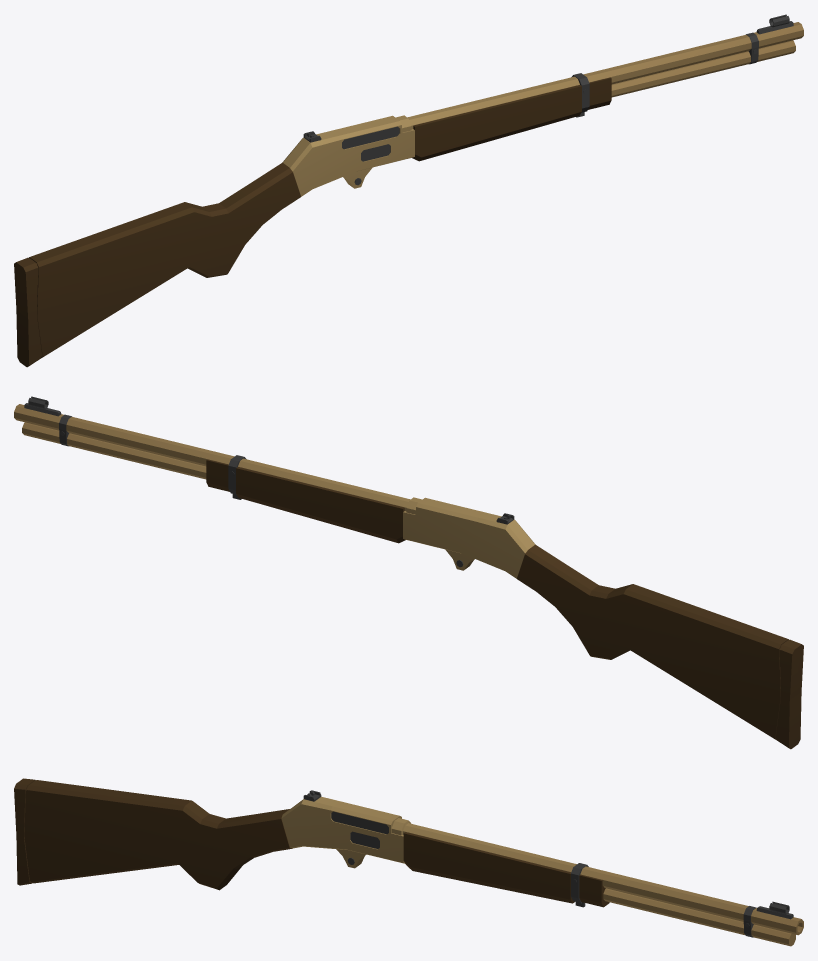
Rendered from SniperRifle5_06.fbx.
3 renders of one model, top to bottom at view 1: azimuth 30°, elevation 25°; view 2: azimuth 150°, elevation 25°; view 3: azimuth 330°, elevation 25°, orthographic.
Visible parts, largest first — view 1: SniperRifle5_06; view 2: SniperRifle5_06; view 3: SniperRifle5_06.
Part boxes in pixels (x1,y1,x2,y2): SniperRifle5_06: (14, 14, 803, 367); SniperRifle5_06: (14, 396, 803, 749); SniperRifle5_06: (14, 778, 803, 946).
Size of the model in its own units: 1.15 by 0.2304 by 0.03.
